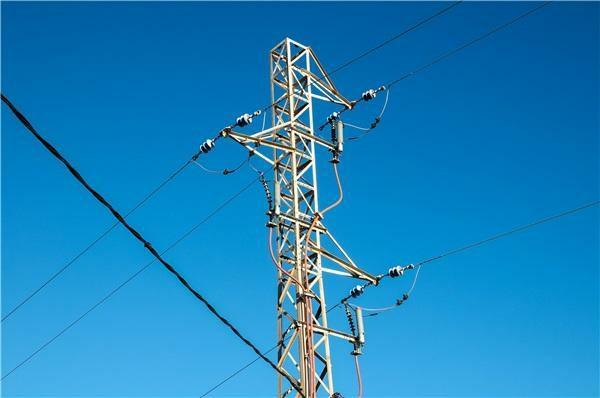power_tower: (220, 34, 395, 398)
